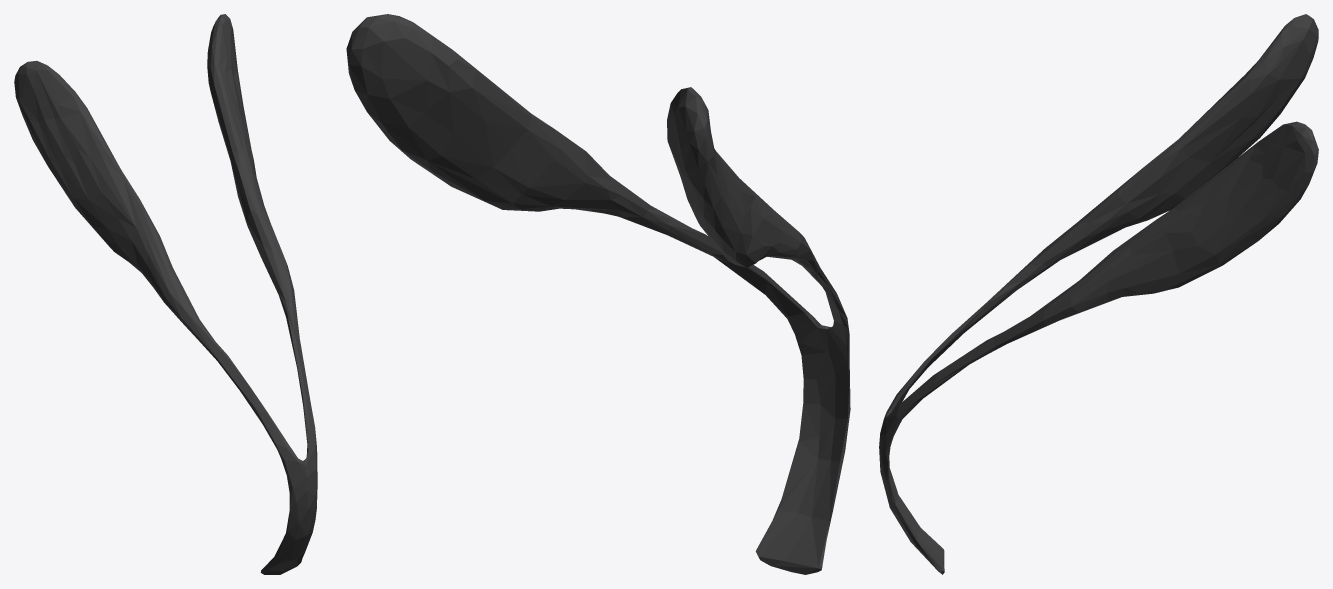
File: m_levator_labii_superioris.glb
3 renders of one model, left to right at view 1: azimuth 30°, elevation 25°; view 2: azimuth 150°, elevation 25°; view 3: azimuth 270°, elevation 25°, orthographic. The views are drawn at different scales.
Parts seen in each view (by area): view 1: m_levator_labii_superioris; view 2: m_levator_labii_superioris; view 3: m_levator_labii_superioris.
Boxes of the visible parts, x1,y1,x2,y2 form: m_levator_labii_superioris: (14,14,317,574); m_levator_labii_superioris: (346,14,850,574); m_levator_labii_superioris: (879,14,1318,574).
Size of the model in its own units: 0.00224 by 0.0042 by 0.00335.
Materials: 1 (1 with a texture image).
